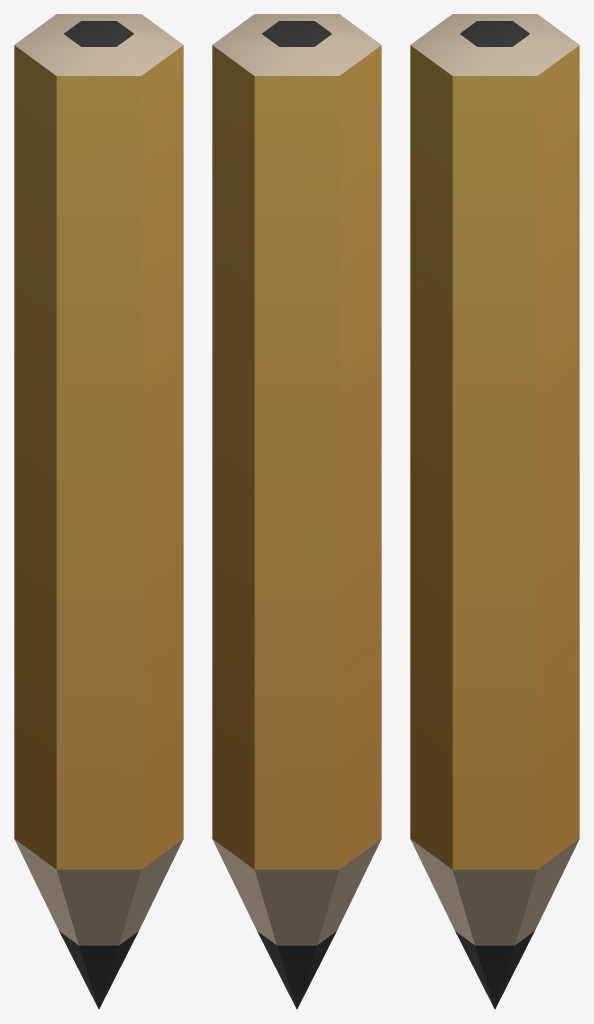
File: penna.glb
3 views of the same model, side by side, from view 1: azimuth 30°, elevation 25°; view 2: azimuth 150°, elevation 25°; view 3: azimuth 270°, elevation 25° (orthographic).
Visible parts, largest first — view 1: pencil_A_long; view 2: pencil_A_long; view 3: pencil_A_long.
Part boxes in pixels (<box>): pencil_A_long: <box>14,14,183,1009</box>; pencil_A_long: <box>212,14,381,1009</box>; pencil_A_long: <box>410,14,579,1009</box>.
Bounding box in the file's own units: 0.0861 × 0.6312 × 0.0994.
Materials: 1 (1 with a texture image).
